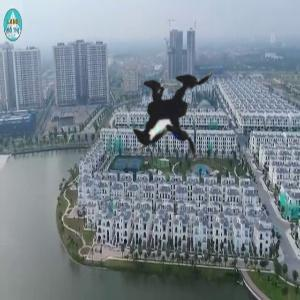drone: (69, 12, 259, 202)
